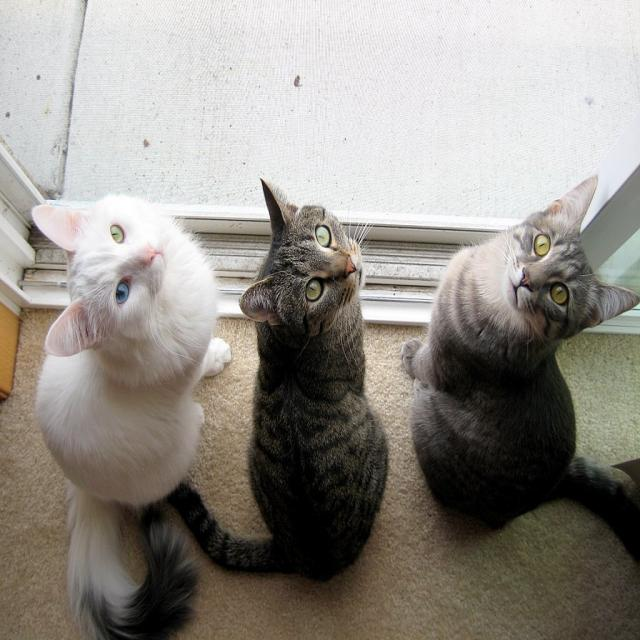Cat: (398, 166, 639, 566), (27, 187, 232, 638), (165, 176, 392, 583)
